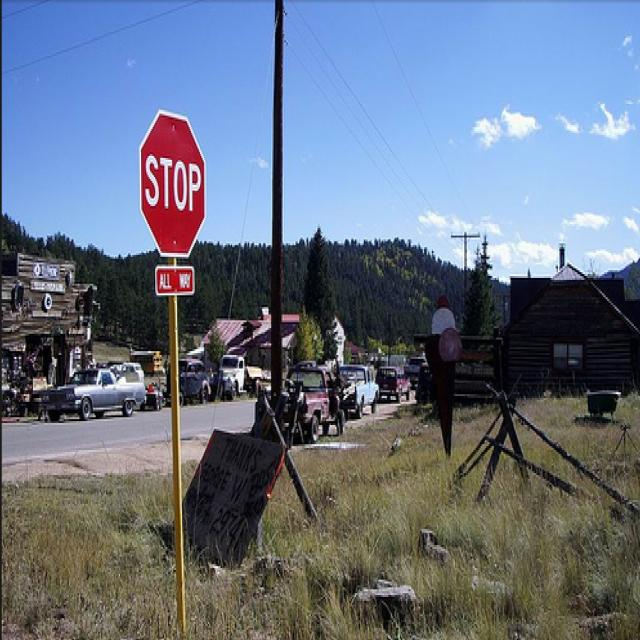STOP: (138, 107, 208, 262)
